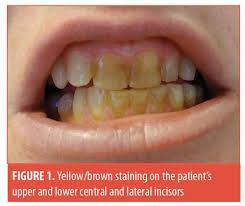Discoloration: (93, 54, 130, 92), (133, 52, 162, 88), (85, 91, 112, 122), (109, 88, 132, 116), (130, 86, 152, 113), (150, 84, 169, 111)
